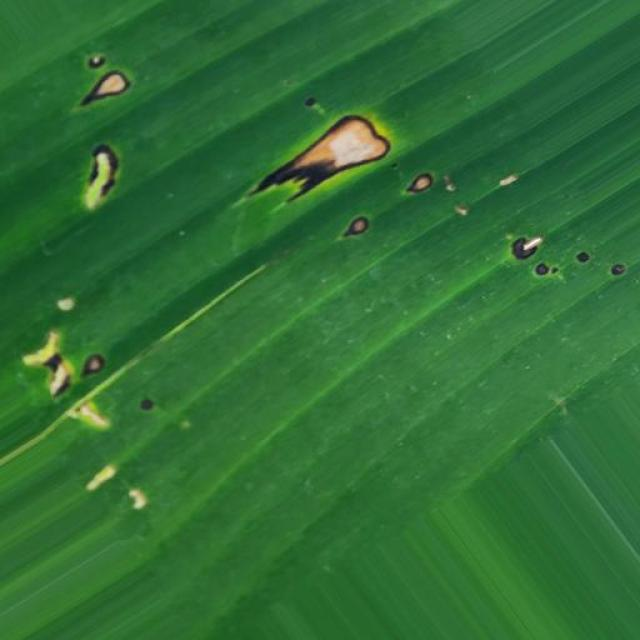Early_rust: (14, 43, 195, 516), (245, 101, 633, 314)
